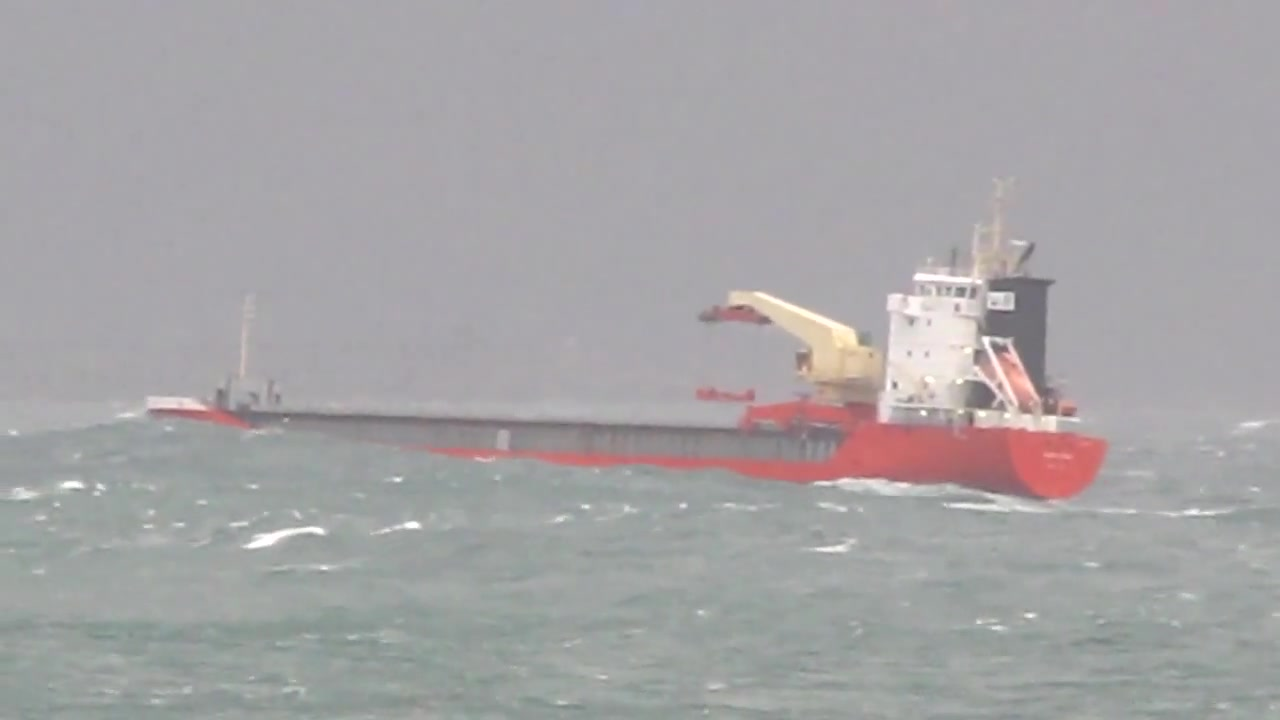boat: (141, 175, 1108, 509)
